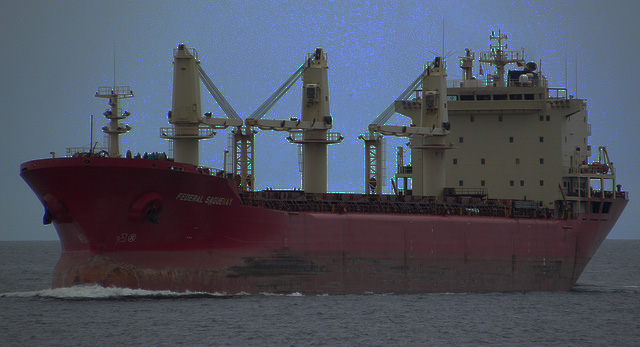bulk carrier: (23, 25, 628, 296)
